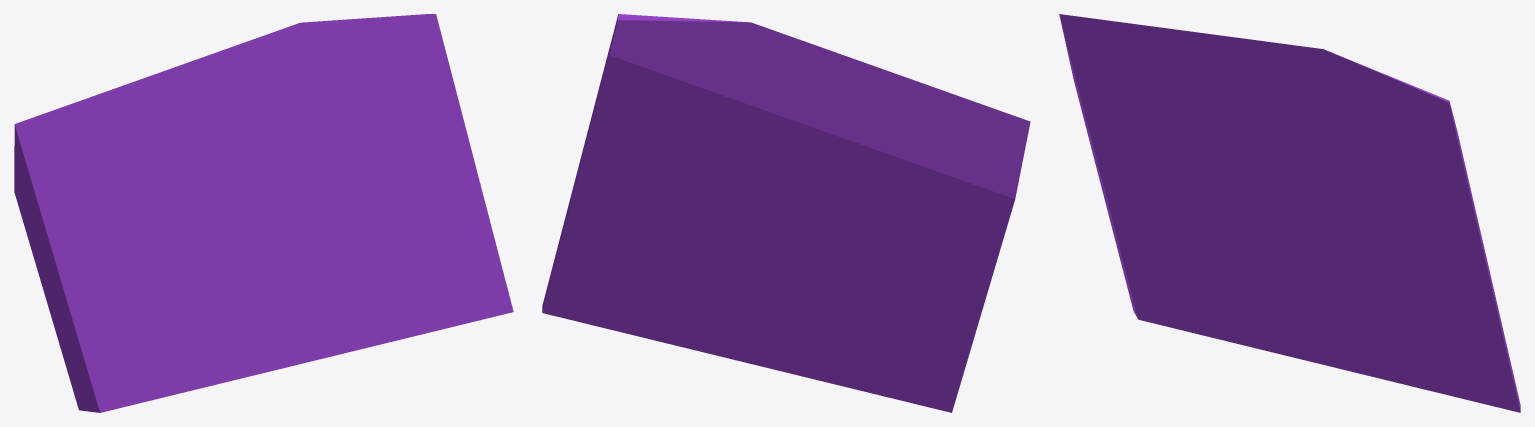
Rendered from Glass_113_14_chunks.fbx.
The picture shows the model from 3 angles, left to right: view 1: azimuth 30°, elevation 25°; view 2: azimuth 150°, elevation 25°; view 3: azimuth 330°, elevation 25°; orthographic projection. The views are drawn at different scales.
Visible parts, largest first — view 1: Glass_113_14_0, Glass_113_14_2, Glass_113_14_5, Glass_113_14_11, Glass_113_14_9, Glass_113_14_4, Glass_113_14_7, Glass_113_14_8, Glass_113_14_10, Glass_113_14_6, Glass_113_14_3, Glass_113_14_1; view 2: Glass_113_14_0, Glass_113_14_2, Glass_113_14_5, Glass_113_14_11, Glass_113_14_9, Glass_113_14_4, Glass_113_14_8, Glass_113_14_7, Glass_113_14_6, Glass_113_14_12, Glass_113_14_10; view 3: Glass_113_14_0, Glass_113_14_2, Glass_113_14_5, Glass_113_14_11, Glass_113_14_4, Glass_113_14_9, Glass_113_14_7, Glass_113_14_8, Glass_113_14_10, Glass_113_14_6, Glass_113_14_3, Glass_113_14_1.
Part boxes in pixels (bbox=[...]): Glass_113_14_0: bbox=[270, 69, 513, 371]; Glass_113_14_2: bbox=[72, 235, 281, 412]; Glass_113_14_5: bbox=[96, 40, 329, 182]; Glass_113_14_11: bbox=[14, 95, 143, 235]; Glass_113_14_9: bbox=[26, 215, 156, 387]; Glass_113_14_4: bbox=[128, 111, 284, 239]; Glass_113_14_7: bbox=[324, 14, 450, 155]; Glass_113_14_8: bbox=[250, 14, 434, 96]; Glass_113_14_10: bbox=[114, 178, 176, 279]; Glass_113_14_6: bbox=[280, 123, 329, 180]; Glass_113_14_3: bbox=[169, 230, 207, 260]; Glass_113_14_1: bbox=[274, 170, 310, 205]; Glass_113_14_0: bbox=[542, 68, 774, 369]; Glass_113_14_2: bbox=[763, 234, 958, 412]; Glass_113_14_5: bbox=[733, 40, 950, 174]; Glass_113_14_11: bbox=[903, 93, 1030, 236]; Glass_113_14_9: bbox=[878, 213, 1003, 390]; Glass_113_14_4: bbox=[759, 112, 915, 240]; Glass_113_14_8: bbox=[617, 14, 799, 101]; Glass_113_14_7: bbox=[603, 14, 707, 147]; Glass_113_14_6: bbox=[700, 101, 789, 189]; Glass_113_14_12: bbox=[867, 141, 927, 235]; Glass_113_14_10: bbox=[861, 225, 898, 267]; Glass_113_14_0: bbox=[1295, 155, 1520, 412]; Glass_113_14_2: bbox=[1127, 208, 1306, 357]; Glass_113_14_5: bbox=[1134, 24, 1350, 185]; Glass_113_14_11: bbox=[1059, 14, 1178, 142]; Glass_113_14_4: bbox=[1164, 54, 1308, 236]; Glass_113_14_9: bbox=[1084, 122, 1189, 287]; Glass_113_14_7: bbox=[1345, 102, 1462, 185]; Glass_113_14_8: bbox=[1277, 43, 1449, 130]; Glass_113_14_10: bbox=[1151, 124, 1208, 222]; Glass_113_14_6: bbox=[1305, 153, 1350, 189]; Glass_113_14_3: bbox=[1202, 185, 1237, 210]; Glass_113_14_1: bbox=[1299, 185, 1332, 211].
Bounding box in the file's own units: 979 × 640 × 27.2.
